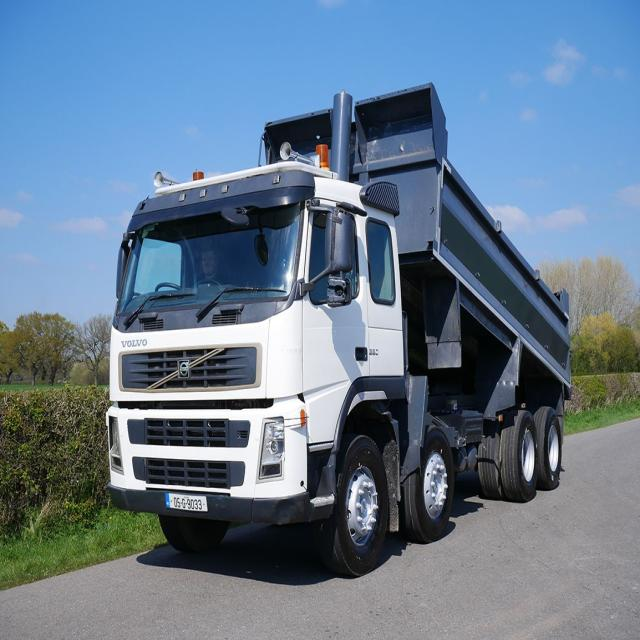dump_truck: (80, 75, 592, 578)
